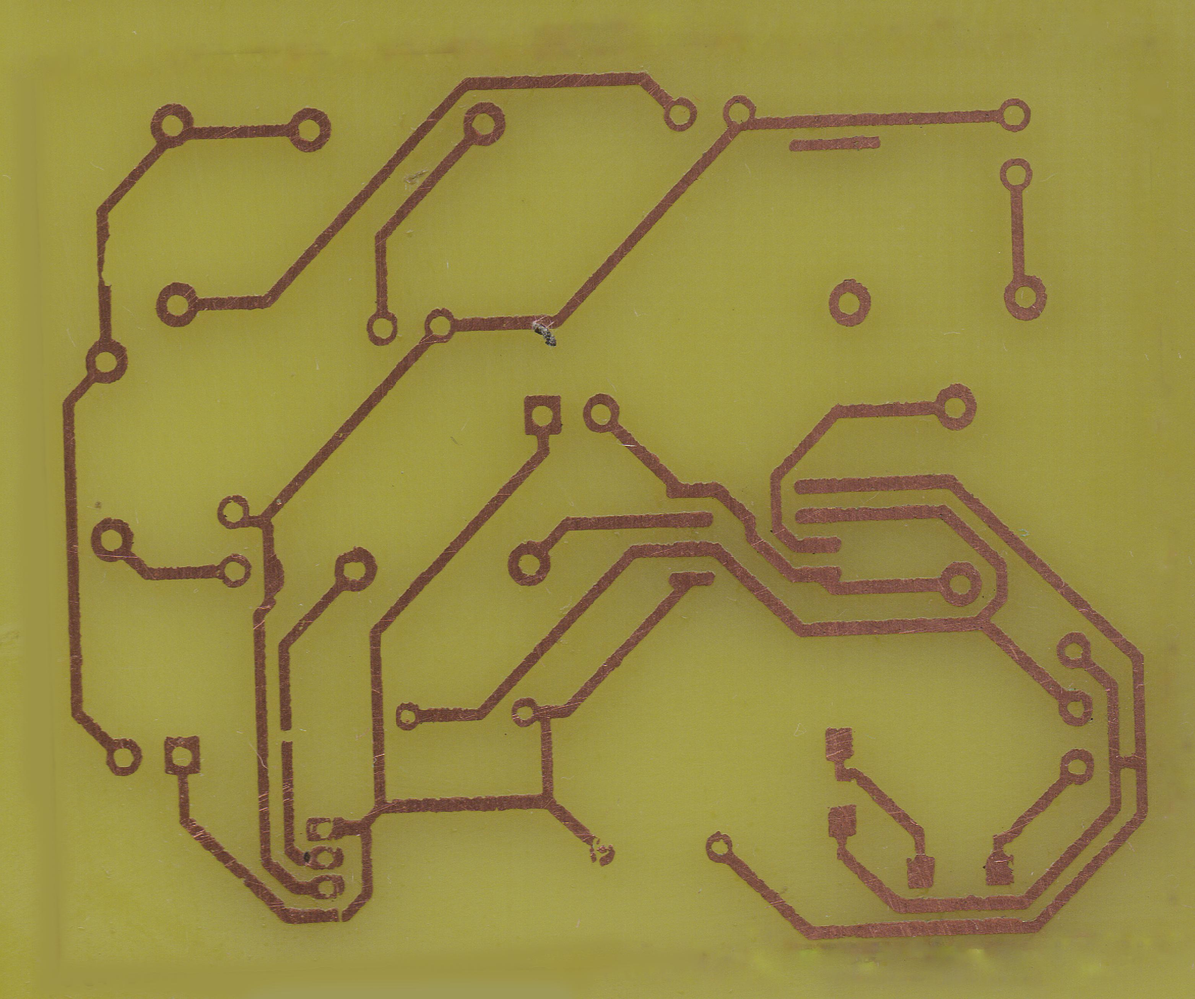missing_hole: (587, 834, 618, 868)
mouse_bite: (95, 224, 115, 297)
open_circuit: (277, 720, 298, 751)
short: (1106, 752, 1150, 774)
spur: (258, 547, 291, 602)
spurious_copper: (783, 133, 893, 160)
